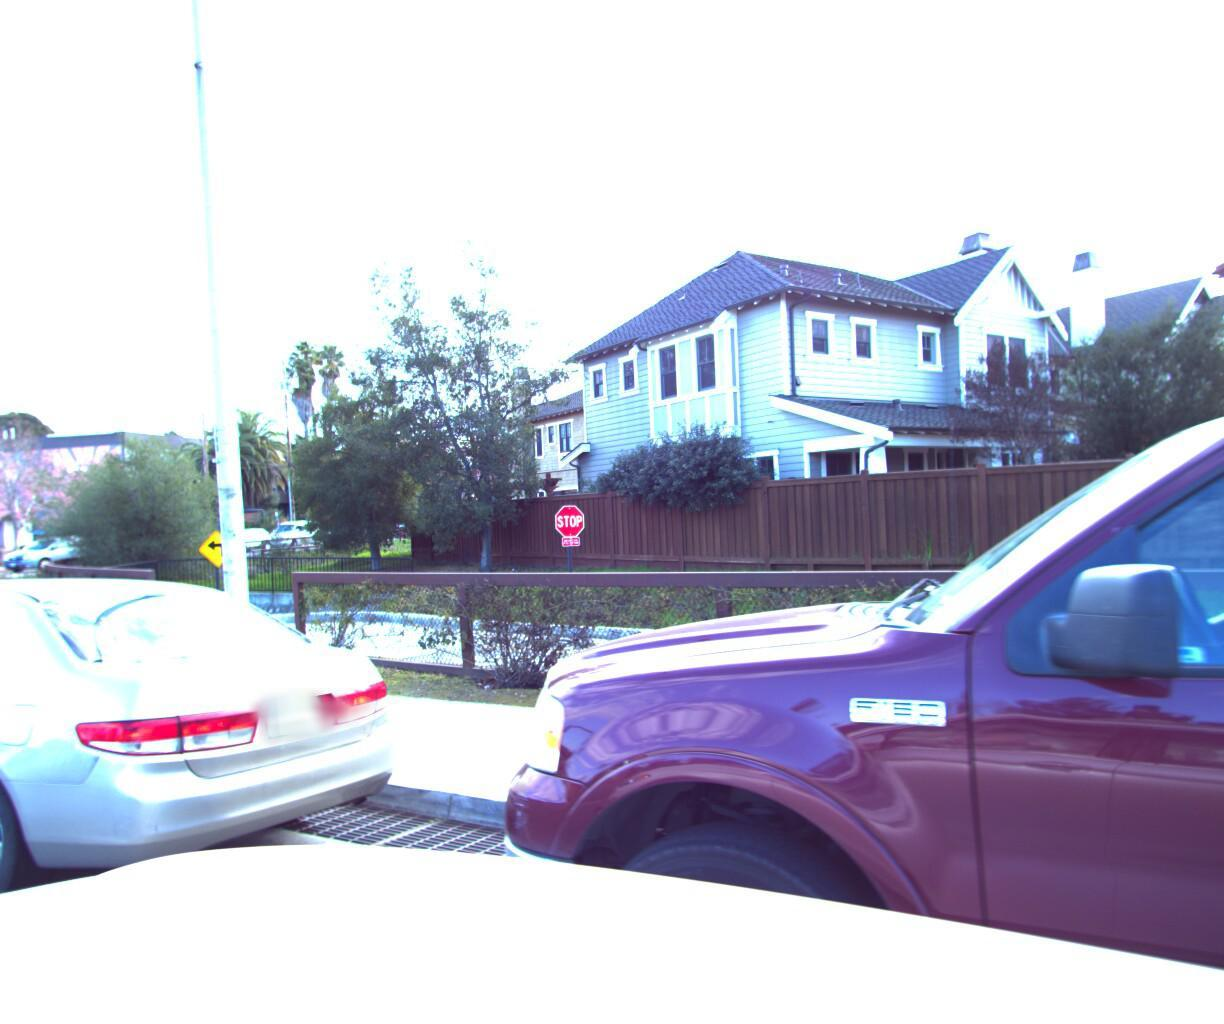car: (0, 561, 454, 1018), (0, 526, 112, 569), (259, 513, 327, 544)
